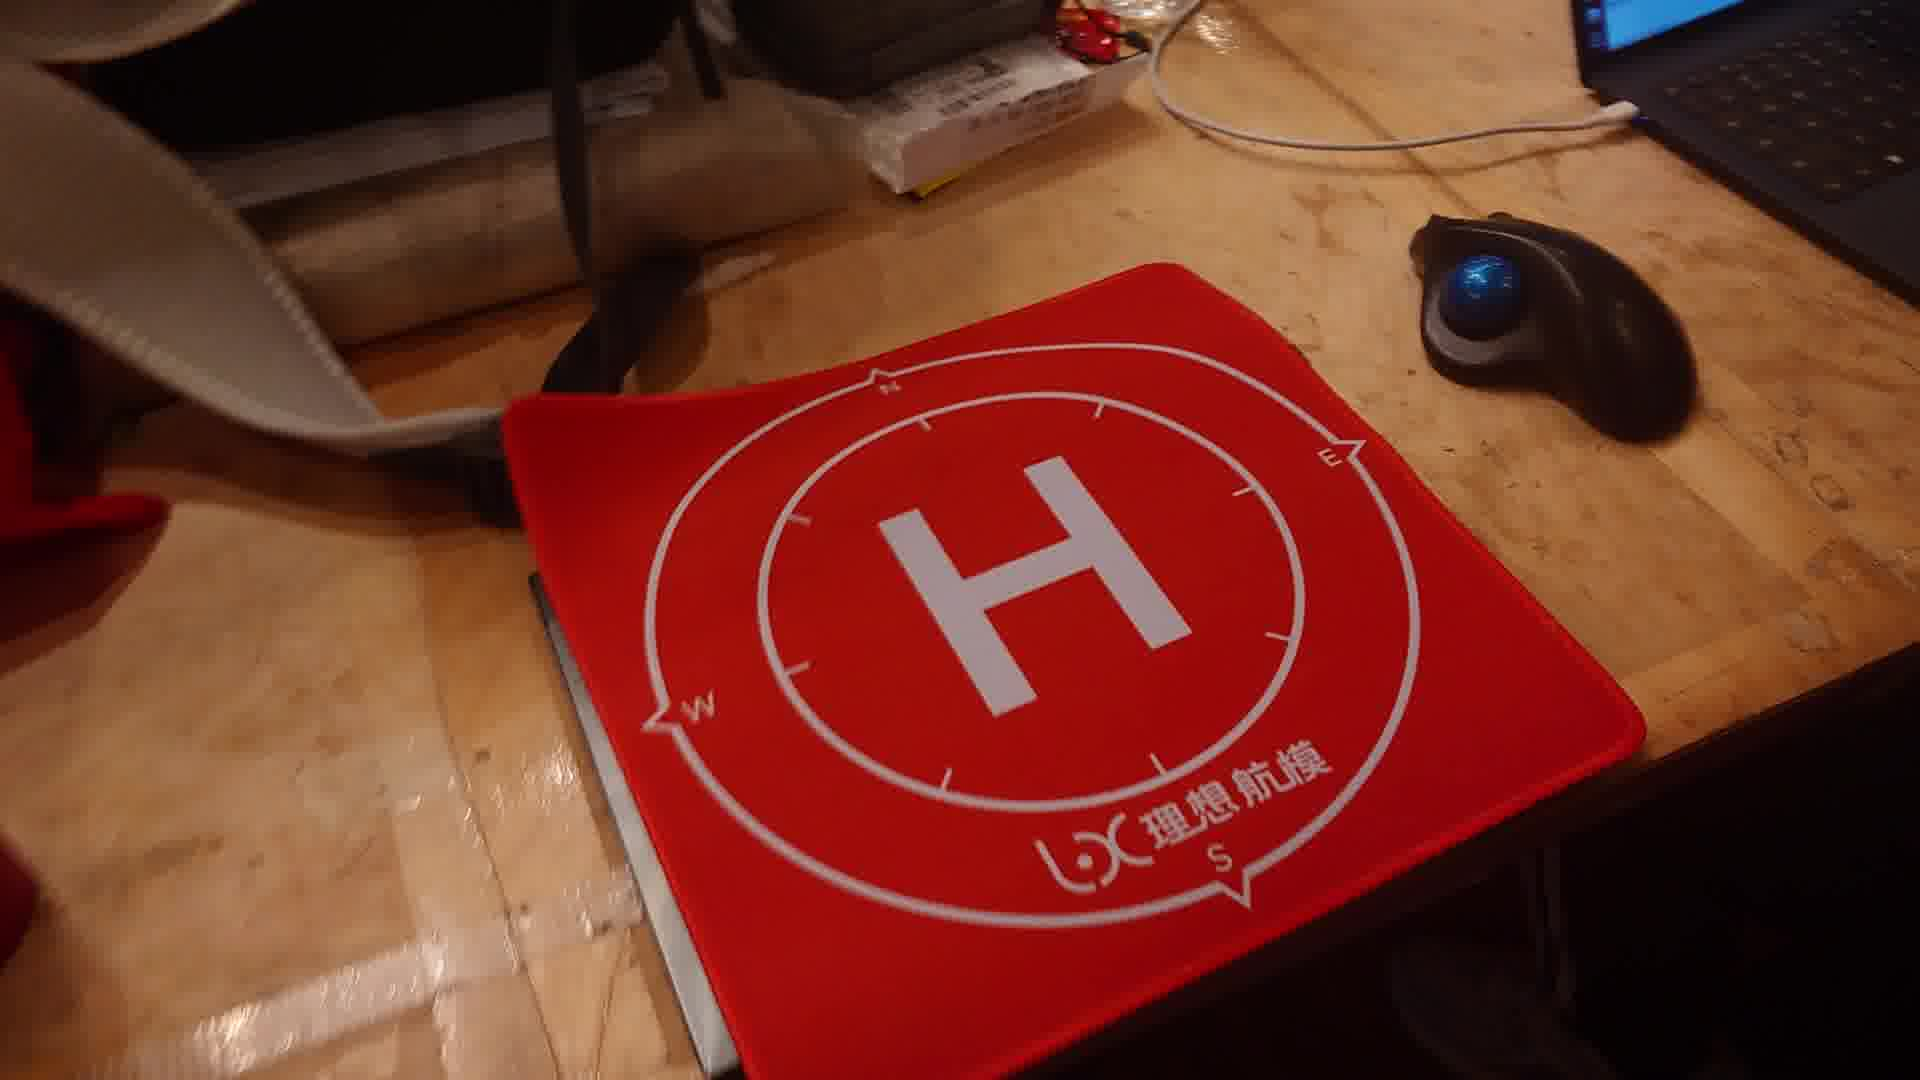H: (881, 455, 1196, 720)
